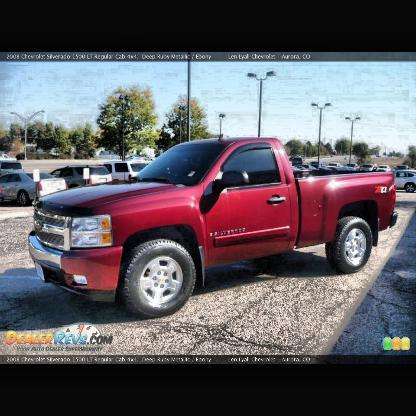Chevrolet Silverado 1500 Regular Cab 2012: (25, 136, 399, 320)
